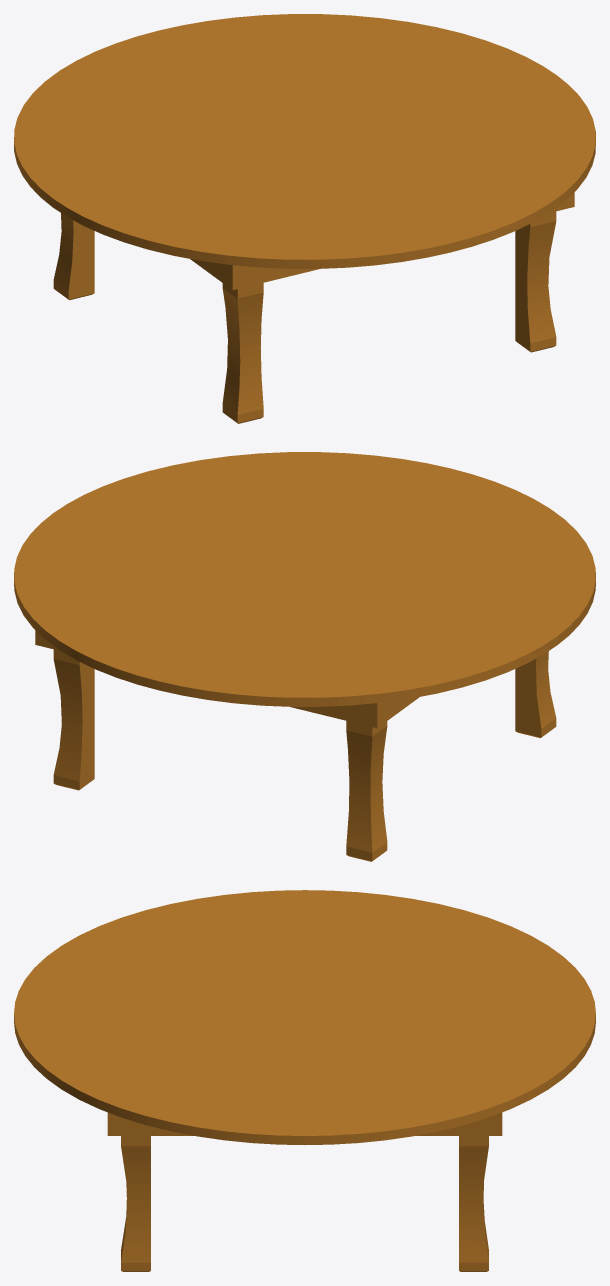
Rendered from 636_ちゃぶ台.glb.
The picture shows the model from 3 angles, top to bottom: view 1: azimuth 30°, elevation 25°; view 2: azimuth 150°, elevation 25°; view 3: azimuth 270°, elevation 25°; orthographic projection.
Parts seen in each view (by area): view 1: Body; view 2: Body; view 3: Body.
Part boxes in pixels (x1,y1,x2,y2): Body: (14,14,595,423); Body: (14,452,595,861); Body: (14,890,595,1271).
Bounding box in the file's own units: 0.87 × 0.3 × 0.87.
